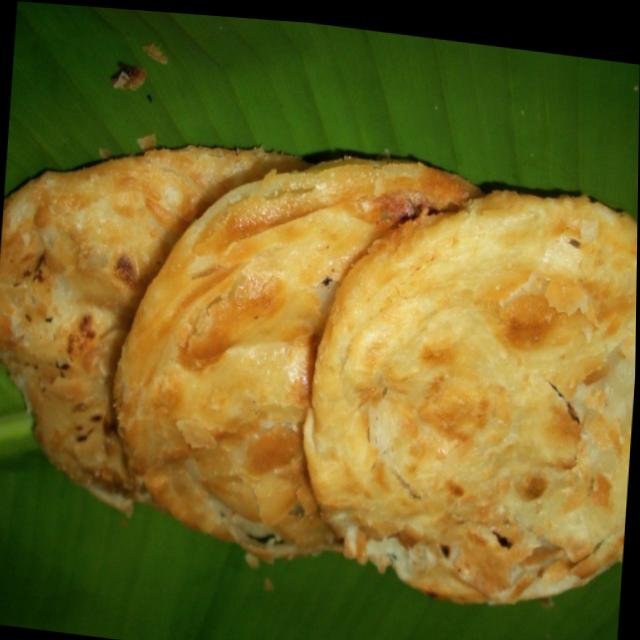PAROTTA: (0, 146, 637, 602)
